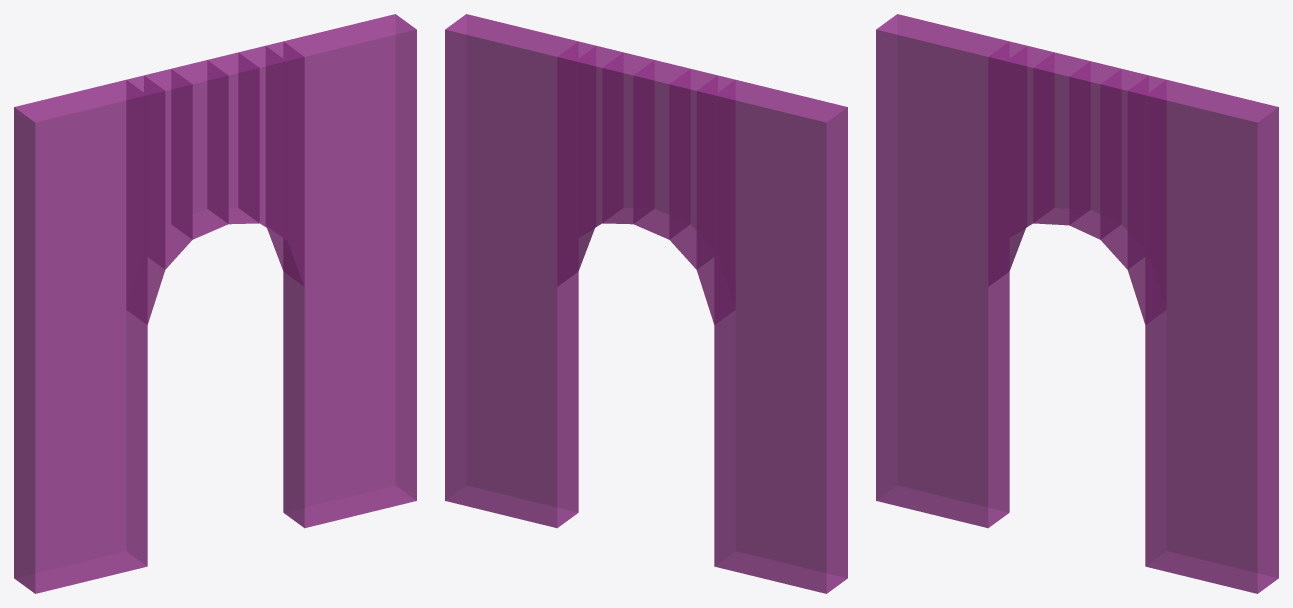
Rendered from SM_Bld_Wall_Manor_Door_01_Collision.fbx.
3 views of the same model, side by side, from view 1: azimuth 30°, elevation 25°; view 2: azimuth 150°, elevation 25°; view 3: azimuth 330°, elevation 25° (orthographic).
Visible parts, largest first — view 1: SM_Bld_Wall_Manor_Door_01_Collision; view 2: SM_Bld_Wall_Manor_Door_01_Collision; view 3: SM_Bld_Wall_Manor_Door_01_Collision.
Part boxes in pixels (x1=…): SM_Bld_Wall_Manor_Door_01_Collision: x1=14, y1=14, x2=416, y2=593; SM_Bld_Wall_Manor_Door_01_Collision: x1=445, y1=14, x2=847, y2=593; SM_Bld_Wall_Manor_Door_01_Collision: x1=876, y1=14, x2=1278, y2=593.
Bounding box in the file's own units: 255 × 301 × 24.61.
